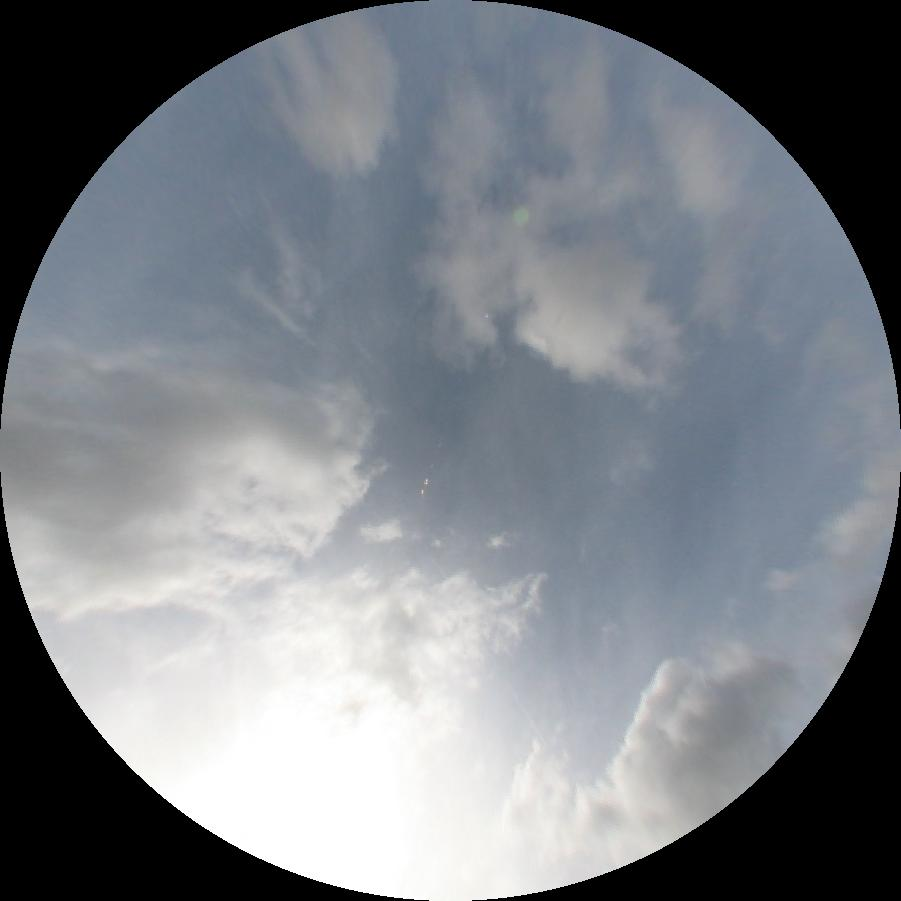sun: (171, 748, 424, 900)
